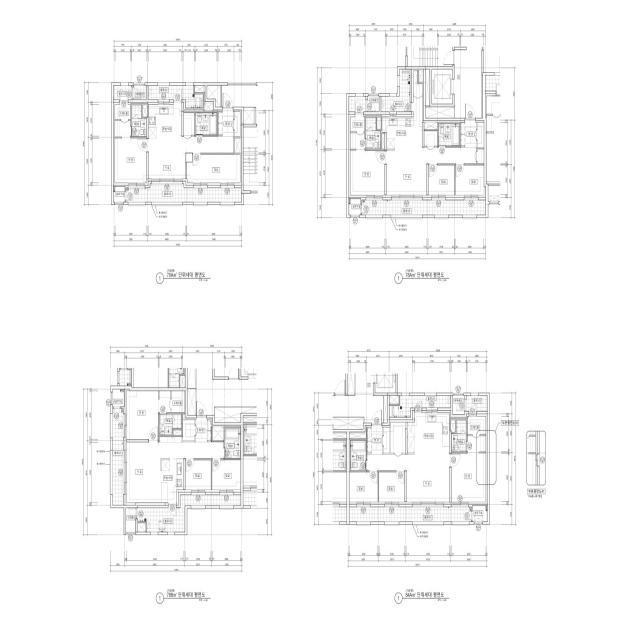space_balconi: (138, 495, 241, 532), (126, 184, 242, 202), (362, 200, 486, 215), (349, 507, 471, 522), (389, 396, 451, 417), (381, 69, 410, 112), (148, 86, 203, 108), (113, 408, 123, 505), (466, 396, 487, 411), (113, 86, 131, 100)
space_bedroom: (452, 453, 486, 502), (350, 150, 385, 195), (127, 391, 158, 439), (187, 155, 240, 183), (115, 138, 146, 183), (349, 472, 378, 502), (455, 165, 484, 195), (212, 460, 241, 490), (185, 460, 211, 490), (379, 472, 405, 502), (429, 165, 454, 195)
space_dressroom: (468, 416, 486, 452), (159, 391, 184, 413), (350, 114, 365, 149), (115, 102, 130, 137)
space_elevator: (432, 70, 453, 104)
space_elevator_hall: (455, 50, 482, 118)
space_front: (218, 109, 240, 137), (367, 425, 383, 454), (461, 119, 476, 147), (196, 417, 211, 442)
space_kitchen: (382, 71, 422, 148), (407, 413, 450, 453), (148, 102, 182, 137), (160, 458, 183, 503)
space_living_room: (127, 437, 224, 503), (387, 147, 476, 195), (367, 454, 450, 502), (148, 137, 233, 179)
space_other: (349, 96, 379, 112), (391, 422, 405, 453), (425, 107, 454, 118), (207, 86, 220, 107), (183, 420, 195, 441), (126, 508, 136, 532), (184, 113, 194, 135), (453, 396, 464, 415), (424, 131, 437, 146), (425, 69, 430, 106), (133, 86, 146, 100), (243, 108, 254, 124), (477, 123, 484, 148), (212, 427, 224, 441), (384, 428, 390, 453), (477, 149, 484, 164), (424, 122, 437, 130), (349, 433, 366, 439), (384, 396, 387, 423), (389, 396, 399, 404), (235, 138, 240, 153), (138, 523, 146, 532), (204, 103, 213, 111), (195, 86, 205, 93), (451, 420, 455, 432), (377, 117, 381, 129), (143, 105, 147, 117), (173, 430, 182, 435), (382, 134, 385, 149), (419, 71, 422, 82)
space_outdoor_room: (472, 506, 487, 522), (113, 389, 124, 407), (113, 187, 125, 202)
space_toilet: (350, 440, 366, 471), (438, 124, 460, 146), (195, 113, 217, 135), (159, 414, 182, 435), (366, 117, 381, 149), (225, 428, 241, 458), (452, 420, 466, 452), (132, 105, 146, 137)
